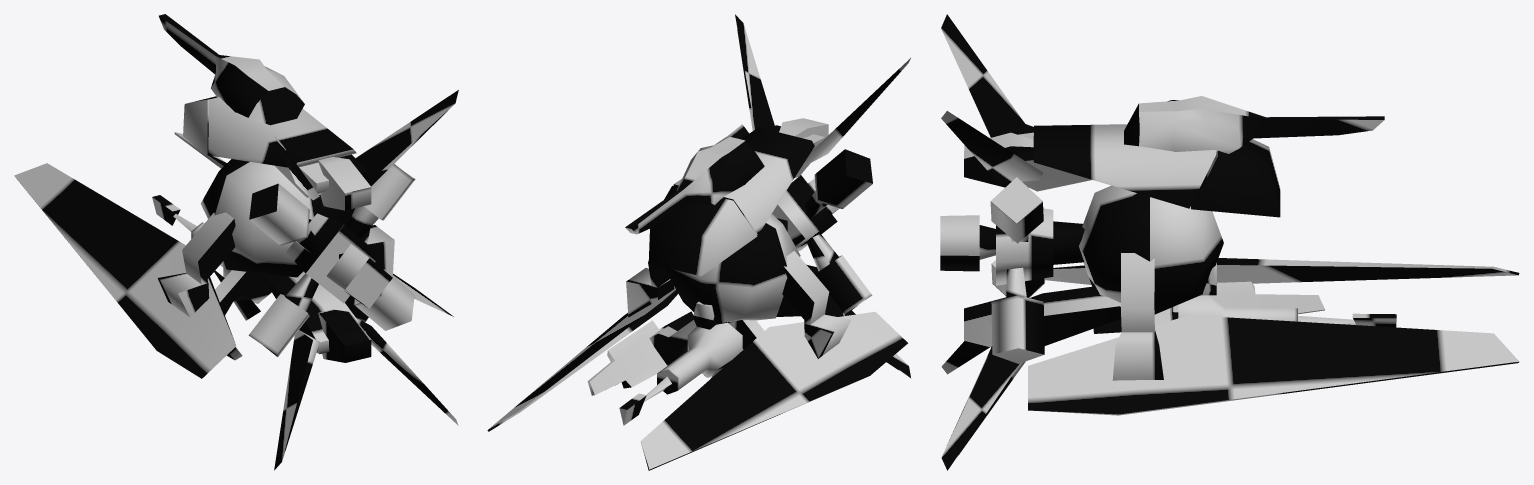
File: pet_6.obj
3 views of the same model, side by side, from view 1: azimuth 30°, elevation 25°; view 2: azimuth 150°, elevation 25°; view 3: azimuth 270°, elevation 25° (orthographic). The views are drawn at different scales.
Visible parts, largest first — view 1: main; view 2: main; view 3: main.
Part boxes in pixels (<box>): main: <box>14,14,458,470</box>; main: <box>487,14,910,470</box>; main: <box>940,14,1519,470</box>.
Size of the model in its own units: 39.07 by 48.7 by 70.91.
1 material, 1 textured.
